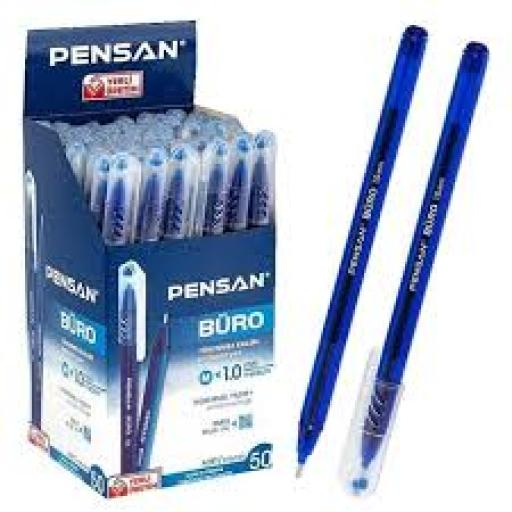tukenmez-kalem: (239, 2, 512, 510)
